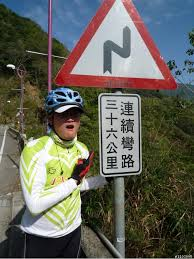Double_bend_right: (54, 1, 179, 91)
